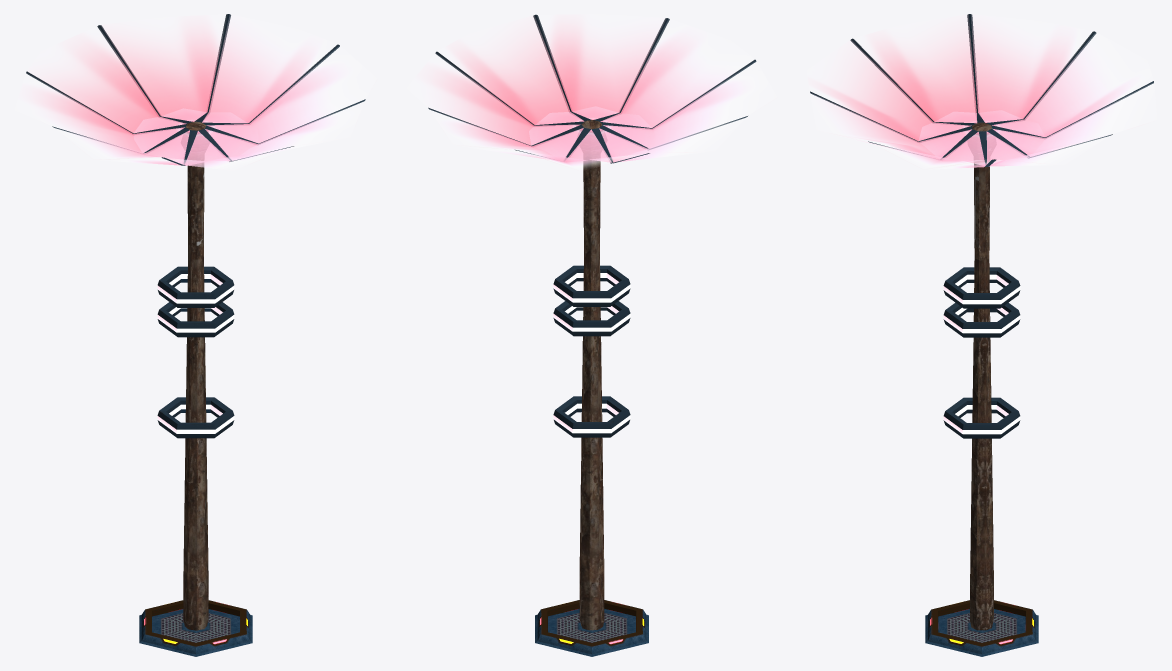
File: entity1726n.gltf
3 renders of one model, left to right at view 1: azimuth 30°, elevation 25°; view 2: azimuth 150°, elevation 25°; view 3: azimuth 270°, elevation 25°, orthographic.
Parts seen in each view (by area): view 1: node_Museum_Tree_02_b; view 2: node_Museum_Tree_02_b; view 3: node_Museum_Tree_02_b.
Part boxes in pixels (x1,y1,x2,y2): node_Museum_Tree_02_b: (20,14,368,656); node_Museum_Tree_02_b: (419,14,767,656); node_Museum_Tree_02_b: (808,14,1154,656).
Size of what is drawn, in the model's own units: 7.02 by 11.96 by 7.02.
Materials: 4 (3 with a texture image).
